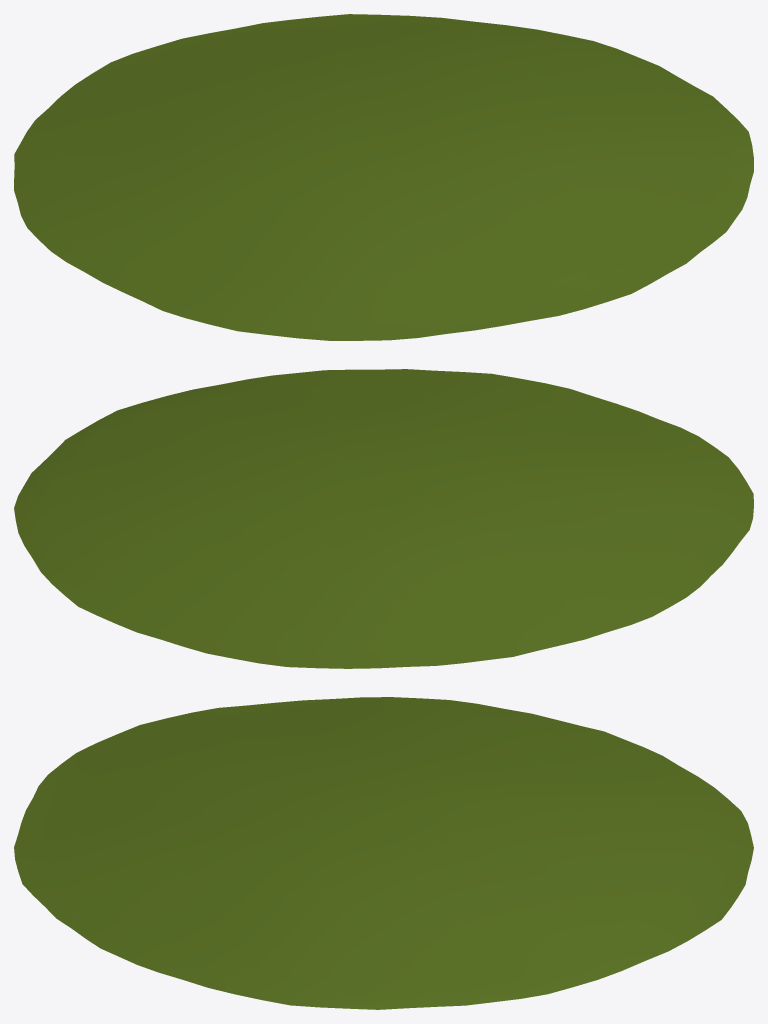
Rendered from GroundPatch.fbx.
3 renders of one model, top to bottom at view 1: azimuth 30°, elevation 25°; view 2: azimuth 150°, elevation 25°; view 3: azimuth 270°, elevation 25°, orthographic. The views are drawn at different scales.
Visible parts, largest first — view 1: IL3DN_GroundPatch; view 2: IL3DN_GroundPatch; view 3: IL3DN_GroundPatch.
Part boxes in pixels (x1,y1,x2,y2): IL3DN_GroundPatch: (14,14,753,340); IL3DN_GroundPatch: (14,369,753,668); IL3DN_GroundPatch: (14,697,753,1009).
Size of the model in its own units: 6092 by 296 by 6090.
